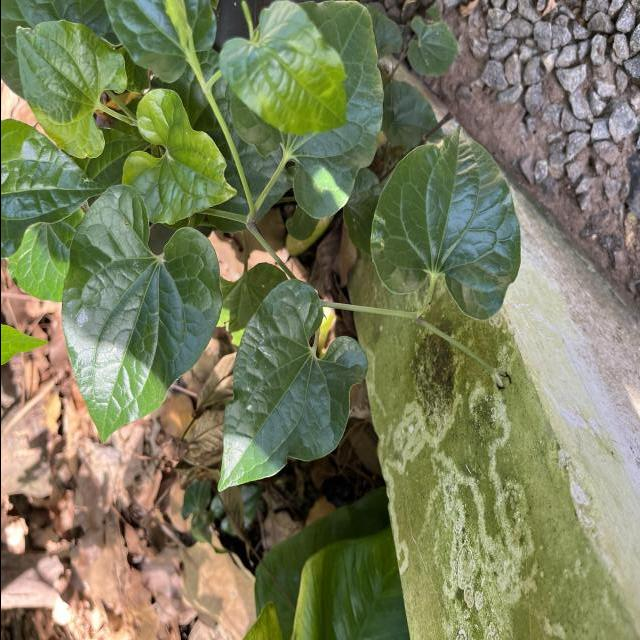Piper longum: (60, 180, 223, 447), (213, 276, 370, 494), (367, 122, 521, 322), (119, 86, 238, 226), (12, 18, 128, 160)
